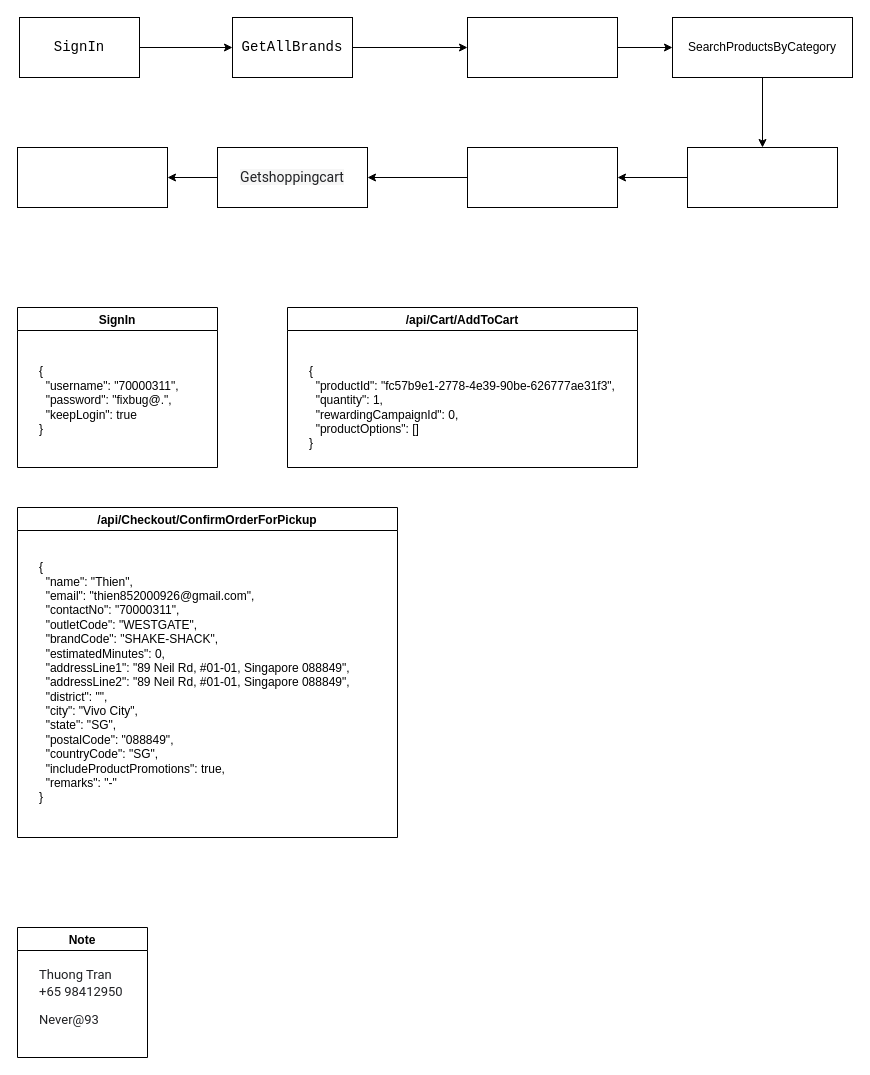
The diagram is 870 pixels wide and 1075 high, and some of its shapes have lost their labels. Each missing label, with the box of its shape:
AddToCard: (466, 146, 618, 208)
ConfirmOrderForPickup: (16, 146, 168, 208)
GetAllCategories: (466, 16, 618, 78)
GetProductByUPC: (686, 146, 838, 208)
